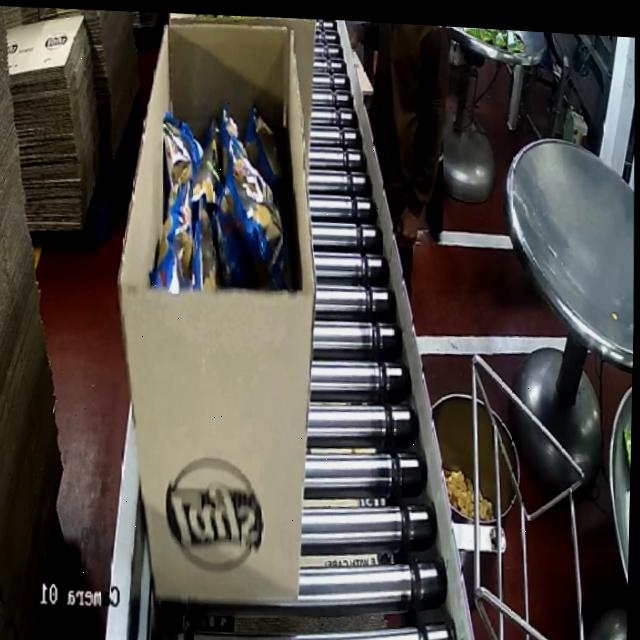PAPRIKA: (153, 98, 294, 295)
